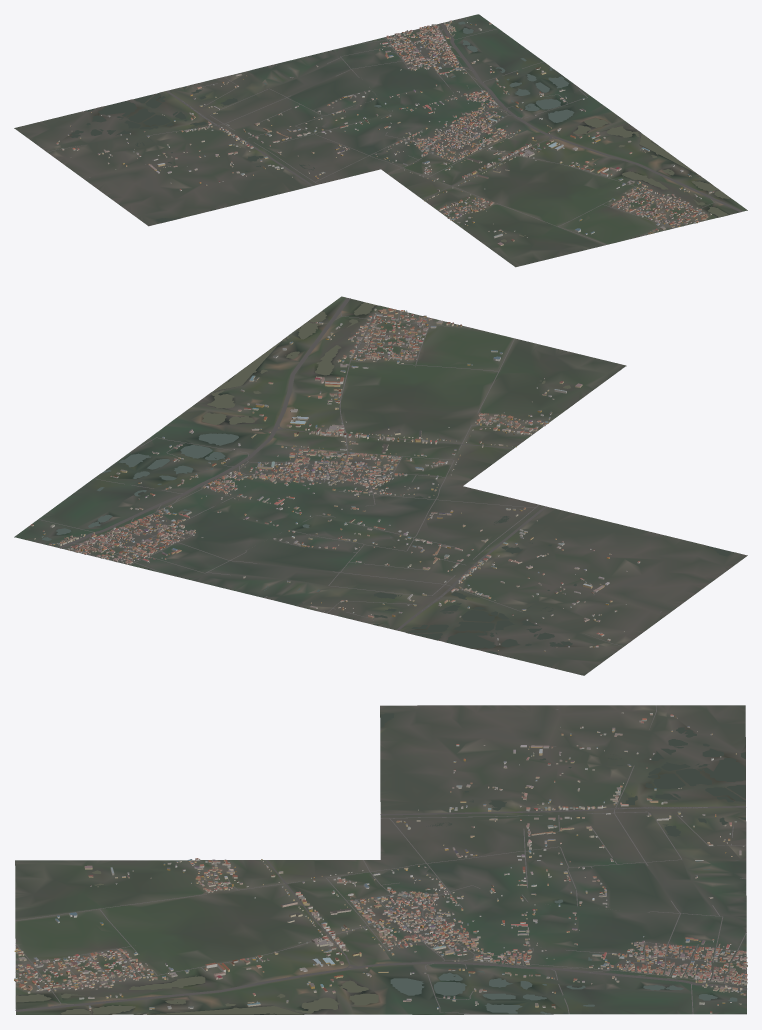
3 views of the same model, one above another, from view 1: azimuth 30°, elevation 25°; view 2: azimuth 150°, elevation 25°; view 3: azimuth 270°, elevation 25° (orthographic). The views are drawn at different scales.
Parts seen in each view (by area): view 1: ground, buildings, water, roads; view 2: ground, buildings, water, roads; view 3: ground, buildings, water, roads.
Boxes of the visible parts, left/top/right/bottom form: ground: left=14, top=14, right=747, bottom=267; buildings: left=56, top=18, right=714, bottom=245; water: left=70, top=21, right=730, bottom=242; roads: left=47, top=23, right=742, bottom=244; ground: left=14, top=296, right=747, bottom=675; buildings: left=30, top=308, right=640, bottom=651; water: left=42, top=302, right=731, bottom=654; roads: left=38, top=298, right=661, bottom=646; ground: left=15, top=705, right=746, bottom=1014; buildings: left=14, top=712, right=747, bottom=1013; water: left=16, top=713, right=745, bottom=1014; roads: left=15, top=705, right=746, bottom=1014.
Size of the model in its own units: 2811 by 21.47 by 2814.
